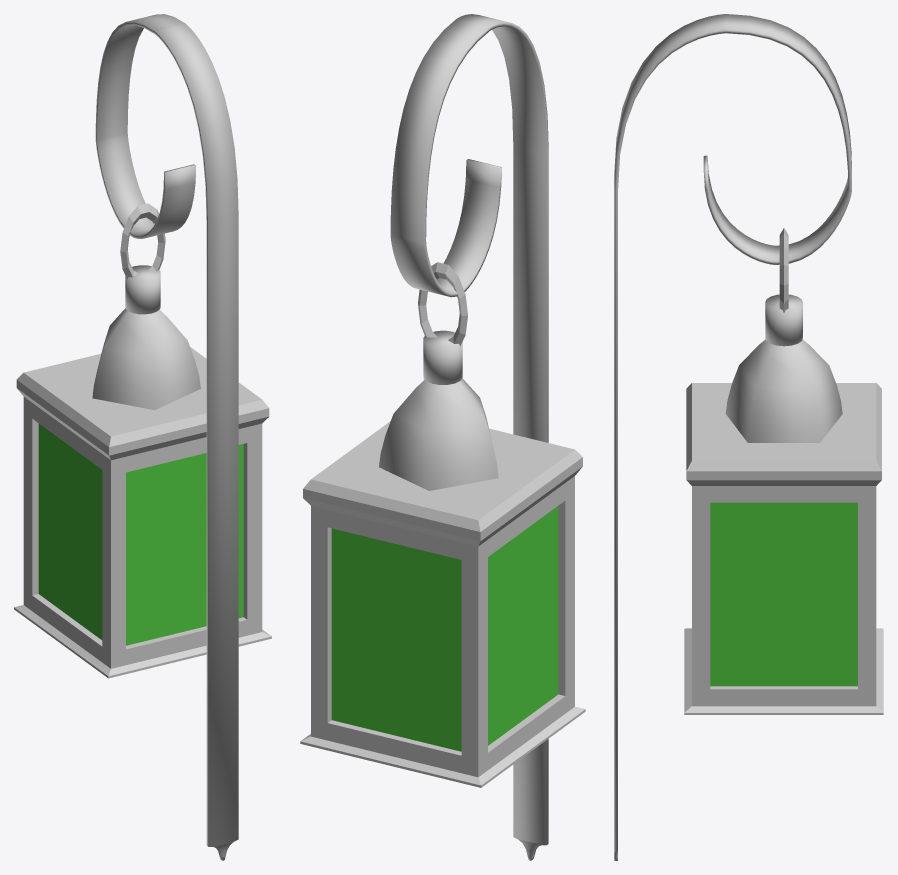
Rendered from Wall-Lantern-001.fbx.
3 renders of one model, left to right at view 1: azimuth 30°, elevation 25°; view 2: azimuth 150°, elevation 25°; view 3: azimuth 270°, elevation 25°, orthographic. The views are drawn at different scales.
Visible parts, largest first — view 1: Lantern-Box-Mesh, Wall-Mount-Mesh, Lantern-Top-Dome-Mesh, Lantern-Top-Cylinder-Mesh, Lantern-Top-Ring-Mesh; view 2: Lantern-Box-Mesh, Wall-Mount-Mesh, Lantern-Top-Dome-Mesh, Lantern-Top-Cylinder-Mesh, Lantern-Top-Ring-Mesh; view 3: Lantern-Box-Mesh, Wall-Mount-Mesh, Lantern-Top-Dome-Mesh, Lantern-Top-Cylinder-Mesh, Lantern-Top-Ring-Mesh.
Part boxes in pixels (left/top/right/bottom): Lantern-Box-Mesh: left=14, top=347, right=271, bottom=678; Wall-Mount-Mesh: left=95, top=14, right=238, bottom=860; Lantern-Top-Dome-Mesh: left=92, top=308, right=200, bottom=410; Lantern-Top-Cylinder-Mesh: left=125, top=265, right=160, bottom=314; Lantern-Top-Ring-Mesh: left=120, top=203, right=165, bottom=279; Lantern-Box-Mesh: left=300, top=421, right=585, bottom=787; Wall-Mount-Mesh: left=390, top=14, right=548, bottom=860; Lantern-Top-Dome-Mesh: left=379, top=378, right=498, bottom=490; Lantern-Top-Cylinder-Mesh: left=423, top=330, right=462, bottom=384; Lantern-Top-Ring-Mesh: left=418, top=262, right=467, bottom=346; Lantern-Box-Mesh: left=684, top=383, right=883, bottom=714; Wall-Mount-Mesh: left=614, top=14, right=851, bottom=860; Lantern-Top-Dome-Mesh: left=725, top=339, right=842, bottom=442; Lantern-Top-Cylinder-Mesh: left=765, top=294, right=802, bottom=346; Lantern-Top-Ring-Mesh: left=779, top=228, right=788, bottom=313.
Size of the model in its own units: 12.96 by 60.2 by 17.53.
